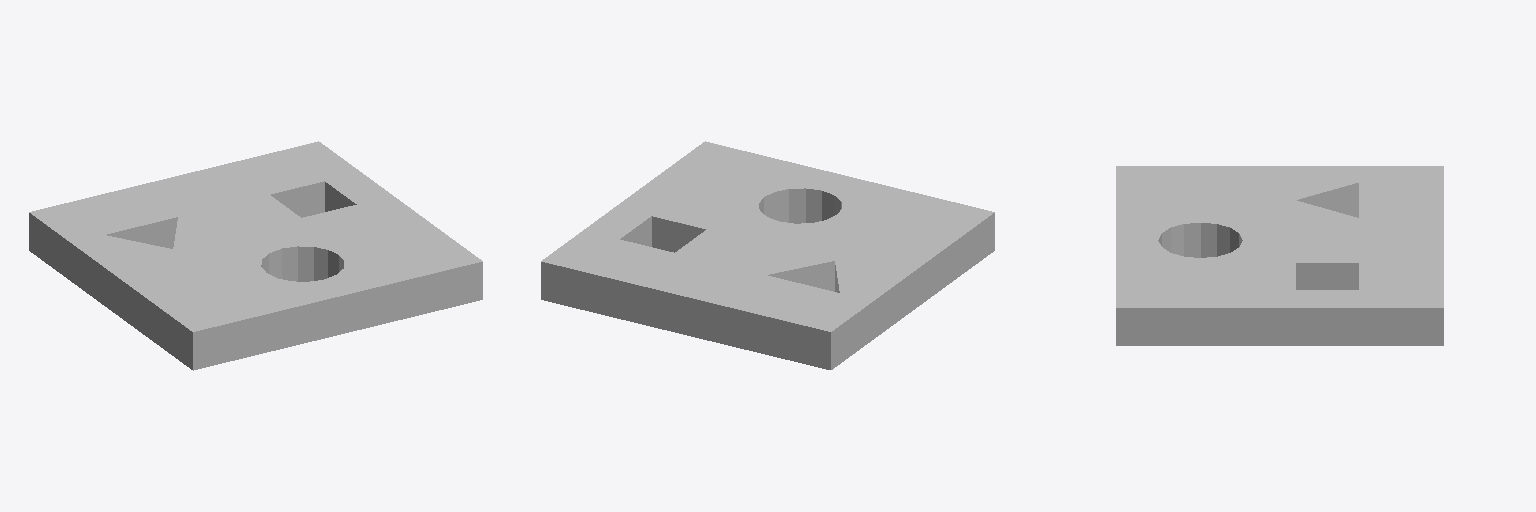
The model's file is Peg Board.obj.
3 views of the same model, side by side, from view 1: azimuth 30°, elevation 25°; view 2: azimuth 150°, elevation 25°; view 3: azimuth 270°, elevation 25° (orthographic).
Visible parts, largest first — view 1: Plane; view 2: Plane; view 3: Plane.
Part boxes in pixels (x1,y1,x2,y2): Plane: (29,141,482,370); Plane: (541,141,994,369); Plane: (1116,166,1443,345).
Size of the model in its own units: 3.17 by 0.4 by 3.1.